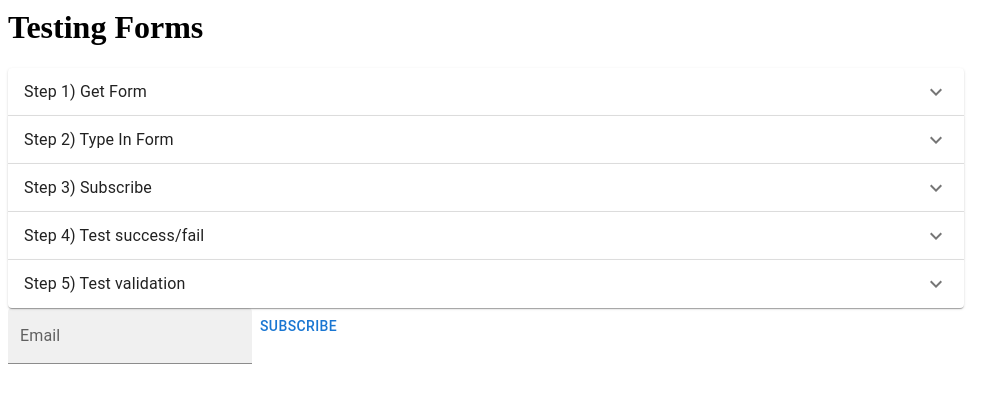
testing "forms" tab › successful subscription
Step 1. Type "test@test.com" into the field labelled "Email" → (130, 336), box [8,308,252,364]
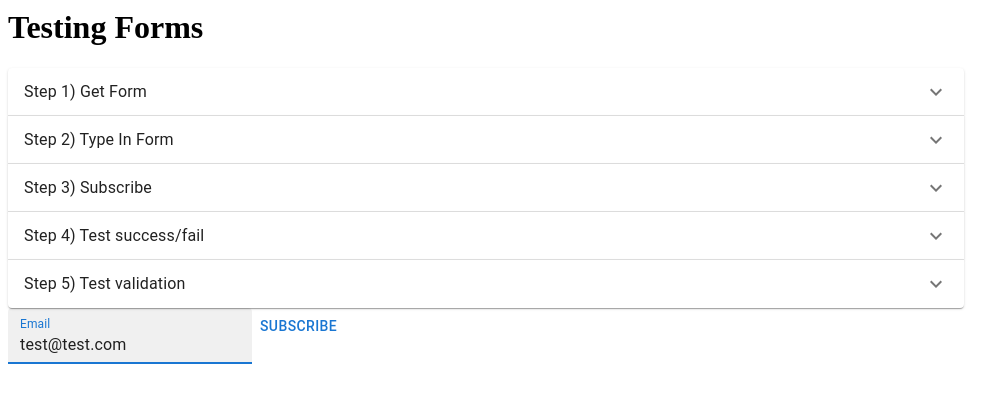
expect the text "Successfully subbed: test@test.com" is not shown: met
Step 2. Click the button with test id "subscribe-button" → (299, 327), box [252,308,345,345]
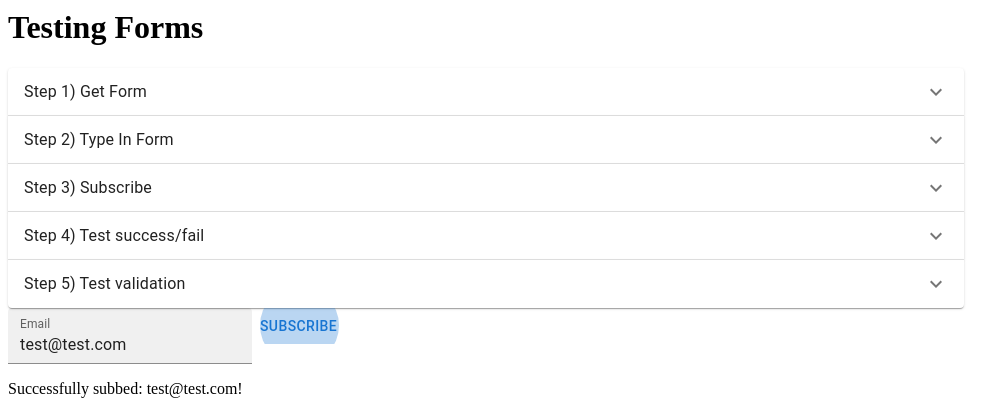
expect the text "Successfully subbed: test@test.com!" is shown: met, box [8,380,243,397]
